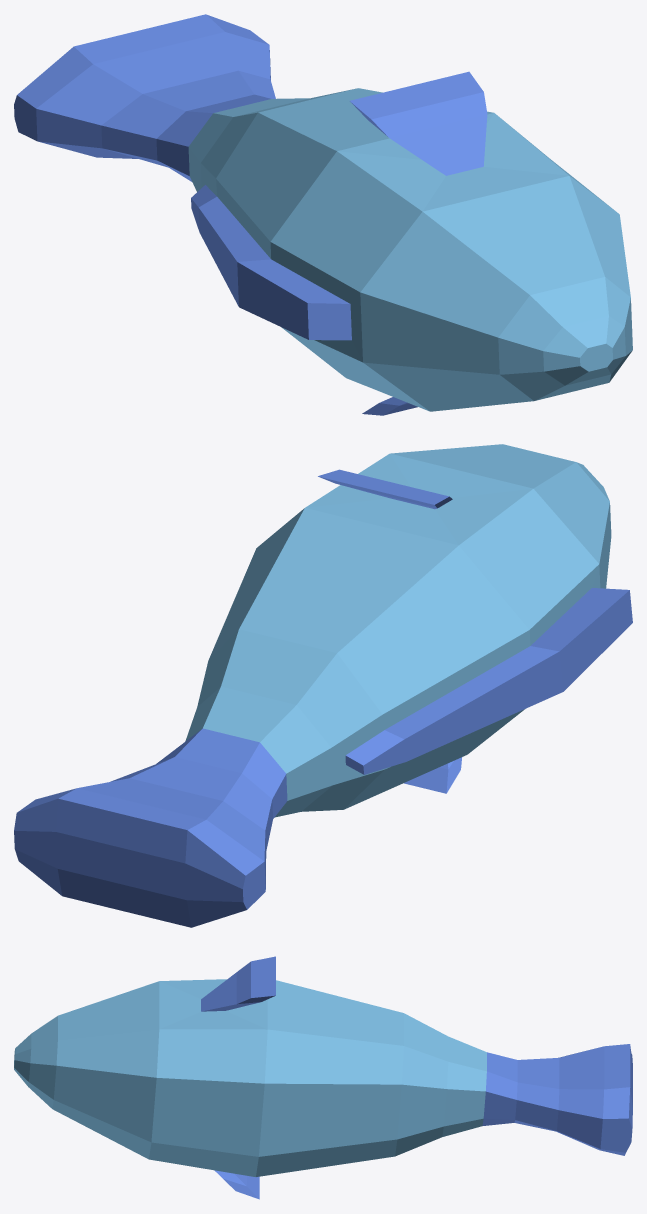
The model's file is Item.Fish.fbx.
3 views of the same model, one above another, from view 1: azimuth 30°, elevation 25°; view 2: azimuth 150°, elevation 25°; view 3: azimuth 270°, elevation 25° (orthographic). The views are drawn at different scales.
Visible parts, largest first — view 1: Cube; view 2: Cube; view 3: Cube.
Boxes of the visible parts, x1,y1,x2,y2 form: Cube: (14,14,632,415); Cube: (14,444,632,927); Cube: (14,956,632,1199).
Size of the model in its own units: 196 by 183 by 503.
